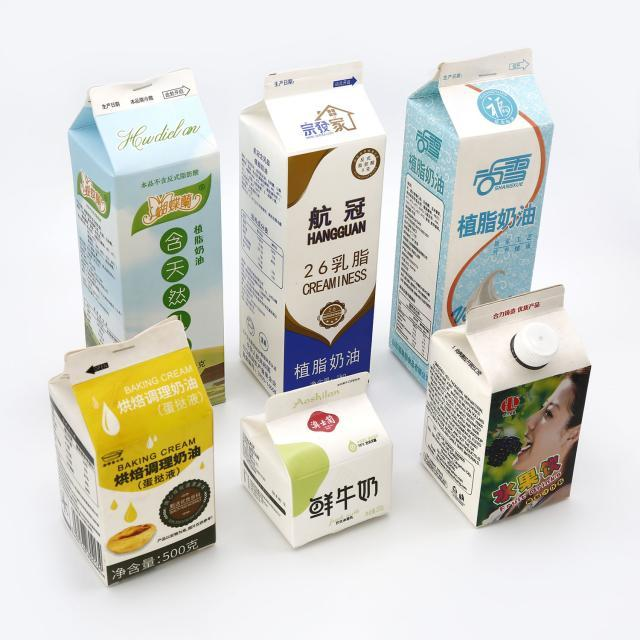Carton: (62, 68, 240, 406), (398, 34, 558, 383), (238, 56, 380, 388), (426, 273, 595, 541), (50, 332, 223, 588), (245, 373, 402, 564)
